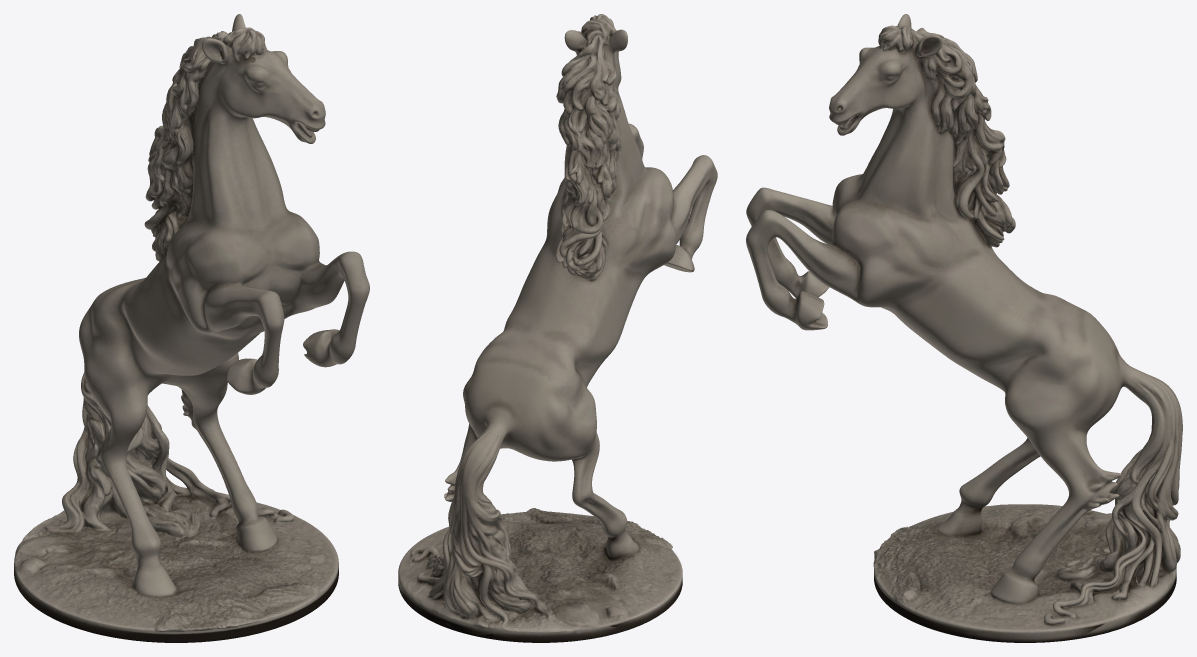
The model's file is Meshy_AI_Silver_Stallion_on_th_0920102032_texture.glb.
3 views of the same model, side by side, from view 1: azimuth 30°, elevation 25°; view 2: azimuth 150°, elevation 25°; view 3: azimuth 270°, elevation 25° (orthographic). The views are drawn at different scales.
Bounding box in the file's own units: 0.9368 × 1.9 × 1.35.
Materials: 1 (1 with a texture image).
